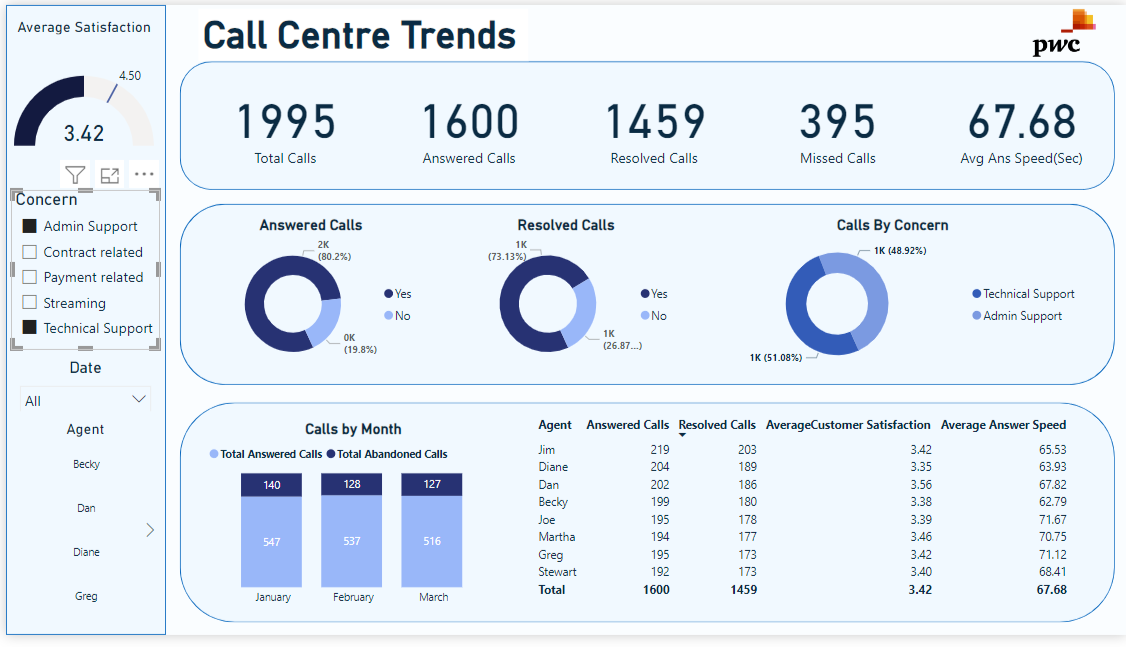

What the dashboard file says about the page in this screenshot:
{"tool":"powerbi","page":{"name":"Call Center Trend Analysis","canvas":[1280,720],"ordinal":1},"visuals":[{"type":"shape","box":[198.6,454.3,1068.6,251.4],"z":0},{"type":"shape","box":[198.6,64.3,1068.6,147.1],"z":1000},{"type":"shape","box":[198.6,227.1,1068.6,207.1],"z":2000},{"type":"shape","box":[0,0,182.9,720],"z":3000},{"type":"textbox","box":[220,4.3,377.1,60],"z":4000},{"type":"image","box":[1161.4,0,95.7,64.3],"z":5000},{"type":"gauge","title":"Average Satisfaction","fields":{"Y":["KPI.Overall Customer Satisfaction"],"TargetValue":["KPI.Target Value"]},"box":[4.3,14.3,170,184.3],"z":6000},{"type":"card","fields":{"Values":["KPI.Total Calls"]},"box":[241.4,75.7,155.7,121.4],"z":7000},{"type":"card","fields":{"Values":["KPI.Total Answered Calls"]},"box":[451.8,75.7,155.7,121.4],"z":8000},{"type":"card","fields":{"Values":["KPI.Total Resolved Calls"]},"box":[662.1,75.7,155.7,121.4],"z":9000},{"type":"card","fields":{"Values":["KPI.Total Abandoned Calls"]},"box":[872.5,75.7,155.7,121.4],"z":10000},{"type":"card","fields":{"Values":["KPI.Average Answer Speed"]},"box":[1082.9,75.7,155.7,121.4],"z":11000},{"type":"tableEx","fields":{"Values":["Call-Center-Dataset.Agent","KPI.Total Answered Calls","KPI.Total Resolved Calls","KPI.Overall Customer Satisfaction","KPI.Average Answer Speed"]},"box":[597.1,464.3,638.6,231.4],"z":12000},{"type":"donutChart","title":"Answered Calls","fields":{"Y":["KPI.Total Answered Calls","KPI.Total Abandoned Calls"]},"box":[220,241.4,257.1,181.4],"z":13000},{"type":"donutChart","title":"Resolved Calls","fields":{"Y":["KPI.Total Resolved Calls","KPI.Total Unresolved Calls"]},"box":[510,241.4,260,181.4],"z":14000},{"type":"hundredPercentStackedColumnChart","title":"Calls by Month","fields":{"Y":["KPI.Total Answered Calls","KPI.Total Abandoned Calls"],"Category":["Call-Center-Dataset.Date.Variation.Date Hierarchy.Month"]},"box":[227.1,474.3,340,221.4],"z":15000},{"type":"donutChart","title":"Calls By Concern","fields":{"Y":["KPI.Total Calls"],"Category":["Call-Center-Dataset.Topic"]},"box":[791.4,241.4,444.3,181.4],"z":16000},{"type":"slicer","title":"Concern","fields":{"Values":["Call-Center-Dataset.Topic"]},"box":[5.7,211.4,170,182.9],"z":17000},{"type":"slicer","title":"Date","fields":{"Values":["Call-Center-Dataset.Date.Variation.Date Hierarchy.Month","Call-Center-Dataset.Date.Variation.Date Hierarchy.Day"]},"box":[5.7,404.3,170,60],"z":18000},{"type":"slicer","title":"Agent","fields":{"Values":["Call-Center-Dataset.Agent"]},"box":[5.7,474.3,170,231.4],"z":19000}]}

Visuals, with their boxes in screenshot pixels (x1, y1, x2, y2), scaled from the page's 1280x720 canvas onto the 1126x647 screenshot:
shape: pyautogui.locateOnScreen(175, 408, 1115, 634)
shape: pyautogui.locateOnScreen(175, 58, 1115, 190)
shape: pyautogui.locateOnScreen(175, 204, 1115, 390)
shape: pyautogui.locateOnScreen(0, 0, 161, 646)
textbox: pyautogui.locateOnScreen(194, 4, 525, 58)
image: pyautogui.locateOnScreen(1022, 0, 1106, 58)
"Average Satisfaction" gauge: pyautogui.locateOnScreen(4, 13, 153, 178)
card - KPI.Total Calls: pyautogui.locateOnScreen(212, 68, 349, 177)
card - KPI.Total Answered Calls: pyautogui.locateOnScreen(397, 68, 534, 177)
card - KPI.Total Resolved Calls: pyautogui.locateOnScreen(582, 68, 719, 177)
card - KPI.Total Abandoned Calls: pyautogui.locateOnScreen(768, 68, 904, 177)
card - KPI.Average Answer Speed: pyautogui.locateOnScreen(953, 68, 1090, 177)
tableEx - Call-Center-Dataset.Agent x KPI.Total Answered Calls: pyautogui.locateOnScreen(525, 417, 1087, 625)
"Answered Calls" donutChart: pyautogui.locateOnScreen(194, 217, 420, 380)
"Resolved Calls" donutChart: pyautogui.locateOnScreen(449, 217, 677, 380)
"Calls by Month" hundredPercentStackedColumnChart: pyautogui.locateOnScreen(200, 426, 499, 625)
"Calls By Concern" donutChart: pyautogui.locateOnScreen(696, 217, 1087, 380)
"Concern" slicer: pyautogui.locateOnScreen(5, 190, 155, 354)
"Date" slicer: pyautogui.locateOnScreen(5, 363, 155, 417)
"Agent" slicer: pyautogui.locateOnScreen(5, 426, 155, 634)
